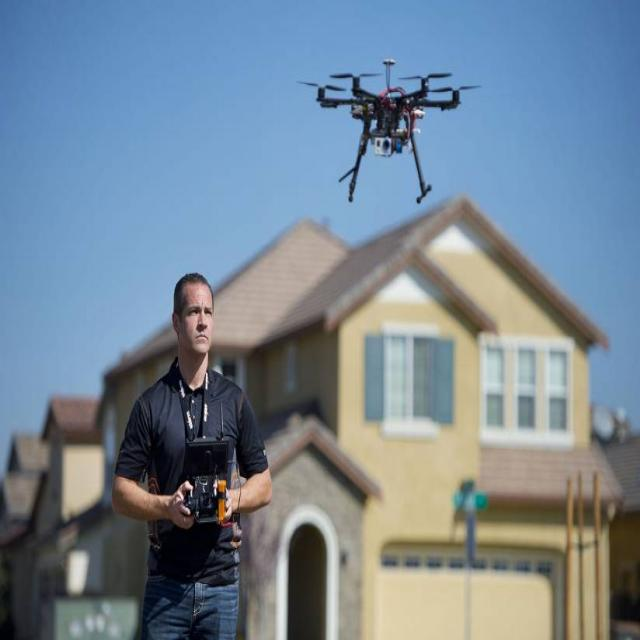drones: (288, 56, 488, 214)
